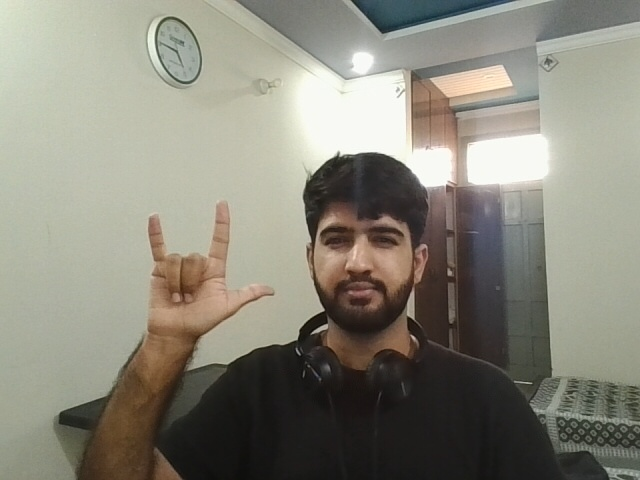I Love You: (125, 183, 282, 338)
